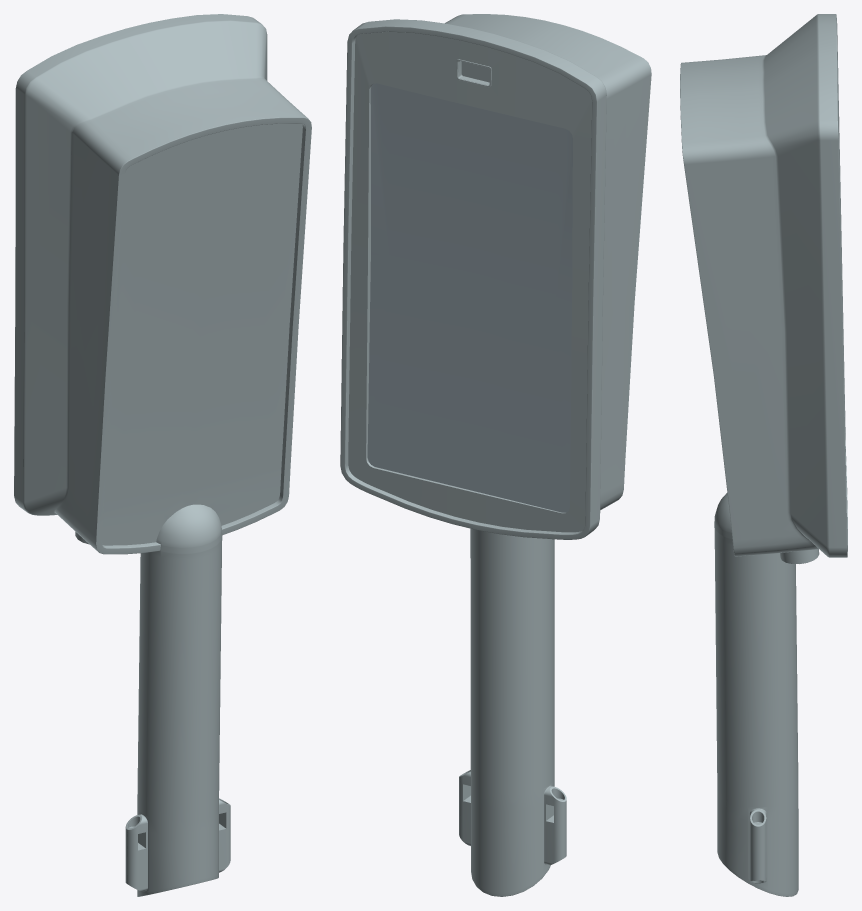
File: SM_BiaoWu.fbx
3 renders of one model, left to right at view 1: azimuth 30°, elevation 25°; view 2: azimuth 150°, elevation 25°; view 3: azimuth 270°, elevation 25°, orthographic. The views are drawn at different scales.
Parts seen in each view (by area): view 1: SM_BiaoWuJi; view 2: SM_BiaoWuJi, SM_Mask; view 3: SM_BiaoWuJi.
Boxes of the visible parts, left/top/right/bottom form: SM_BiaoWuJi: left=14, top=14, right=311, bottom=896; SM_BiaoWuJi: left=340, top=14, right=651, bottom=896; SM_Mask: left=367, top=83, right=572, bottom=512; SM_BiaoWuJi: left=680, top=14, right=847, bottom=896.
Size of the model in its own units: 12.61 by 41.76 by 7.56.
